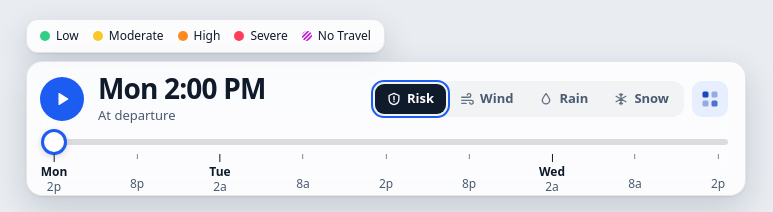
Test: keyboard and async behaviour › steps through variables with arrow keys and restarts playback from the last frame
Press Arrowright
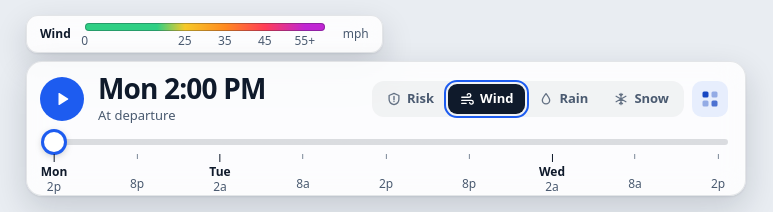
Set the slider named "Forecast hour" to "48": (720, 142) [44,128,728,156]
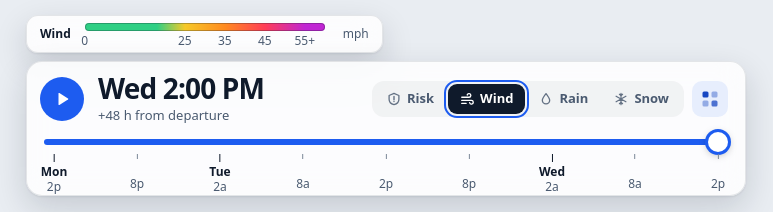
Click the button named "Play forecast": (62, 98) [40,76,84,120]
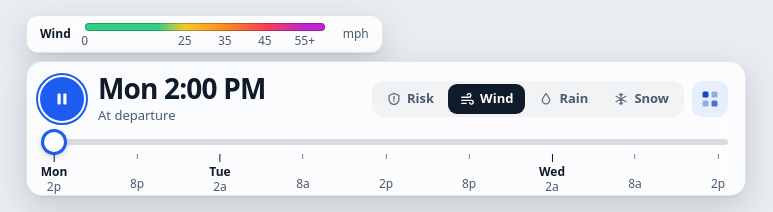
Now the button named "Pause forecast" is shown, box [40,76,84,120]
